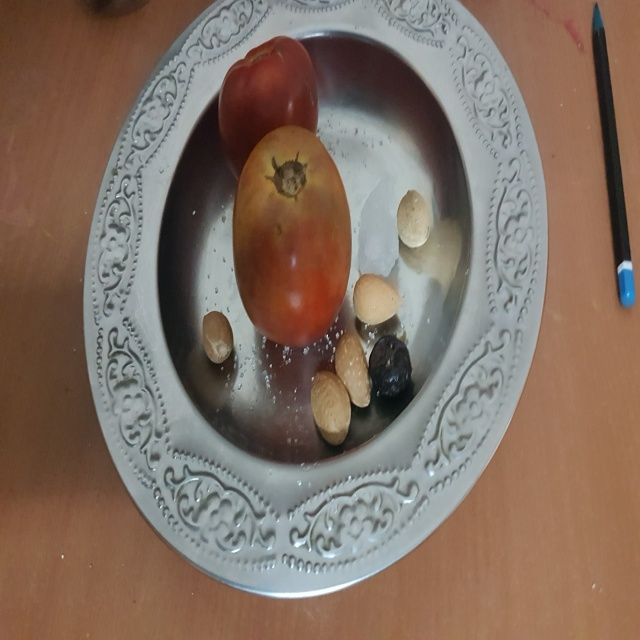tomato: (231, 123, 352, 352), (217, 34, 334, 174)
